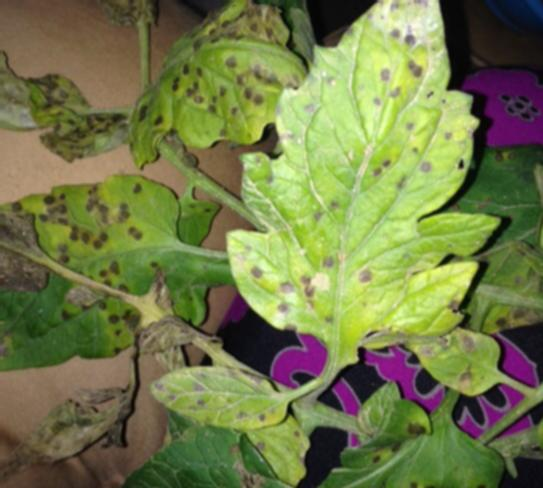Tomato Septoria leaf spot: (231, 0, 498, 358), (114, 400, 534, 488), (110, 0, 323, 167), (16, 173, 192, 301), (117, 351, 300, 430), (404, 321, 522, 393)
